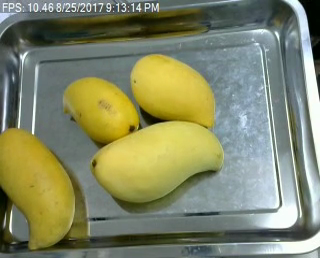Mango: (89, 121, 229, 205), (0, 124, 80, 249), (128, 49, 221, 132), (63, 74, 139, 146)
